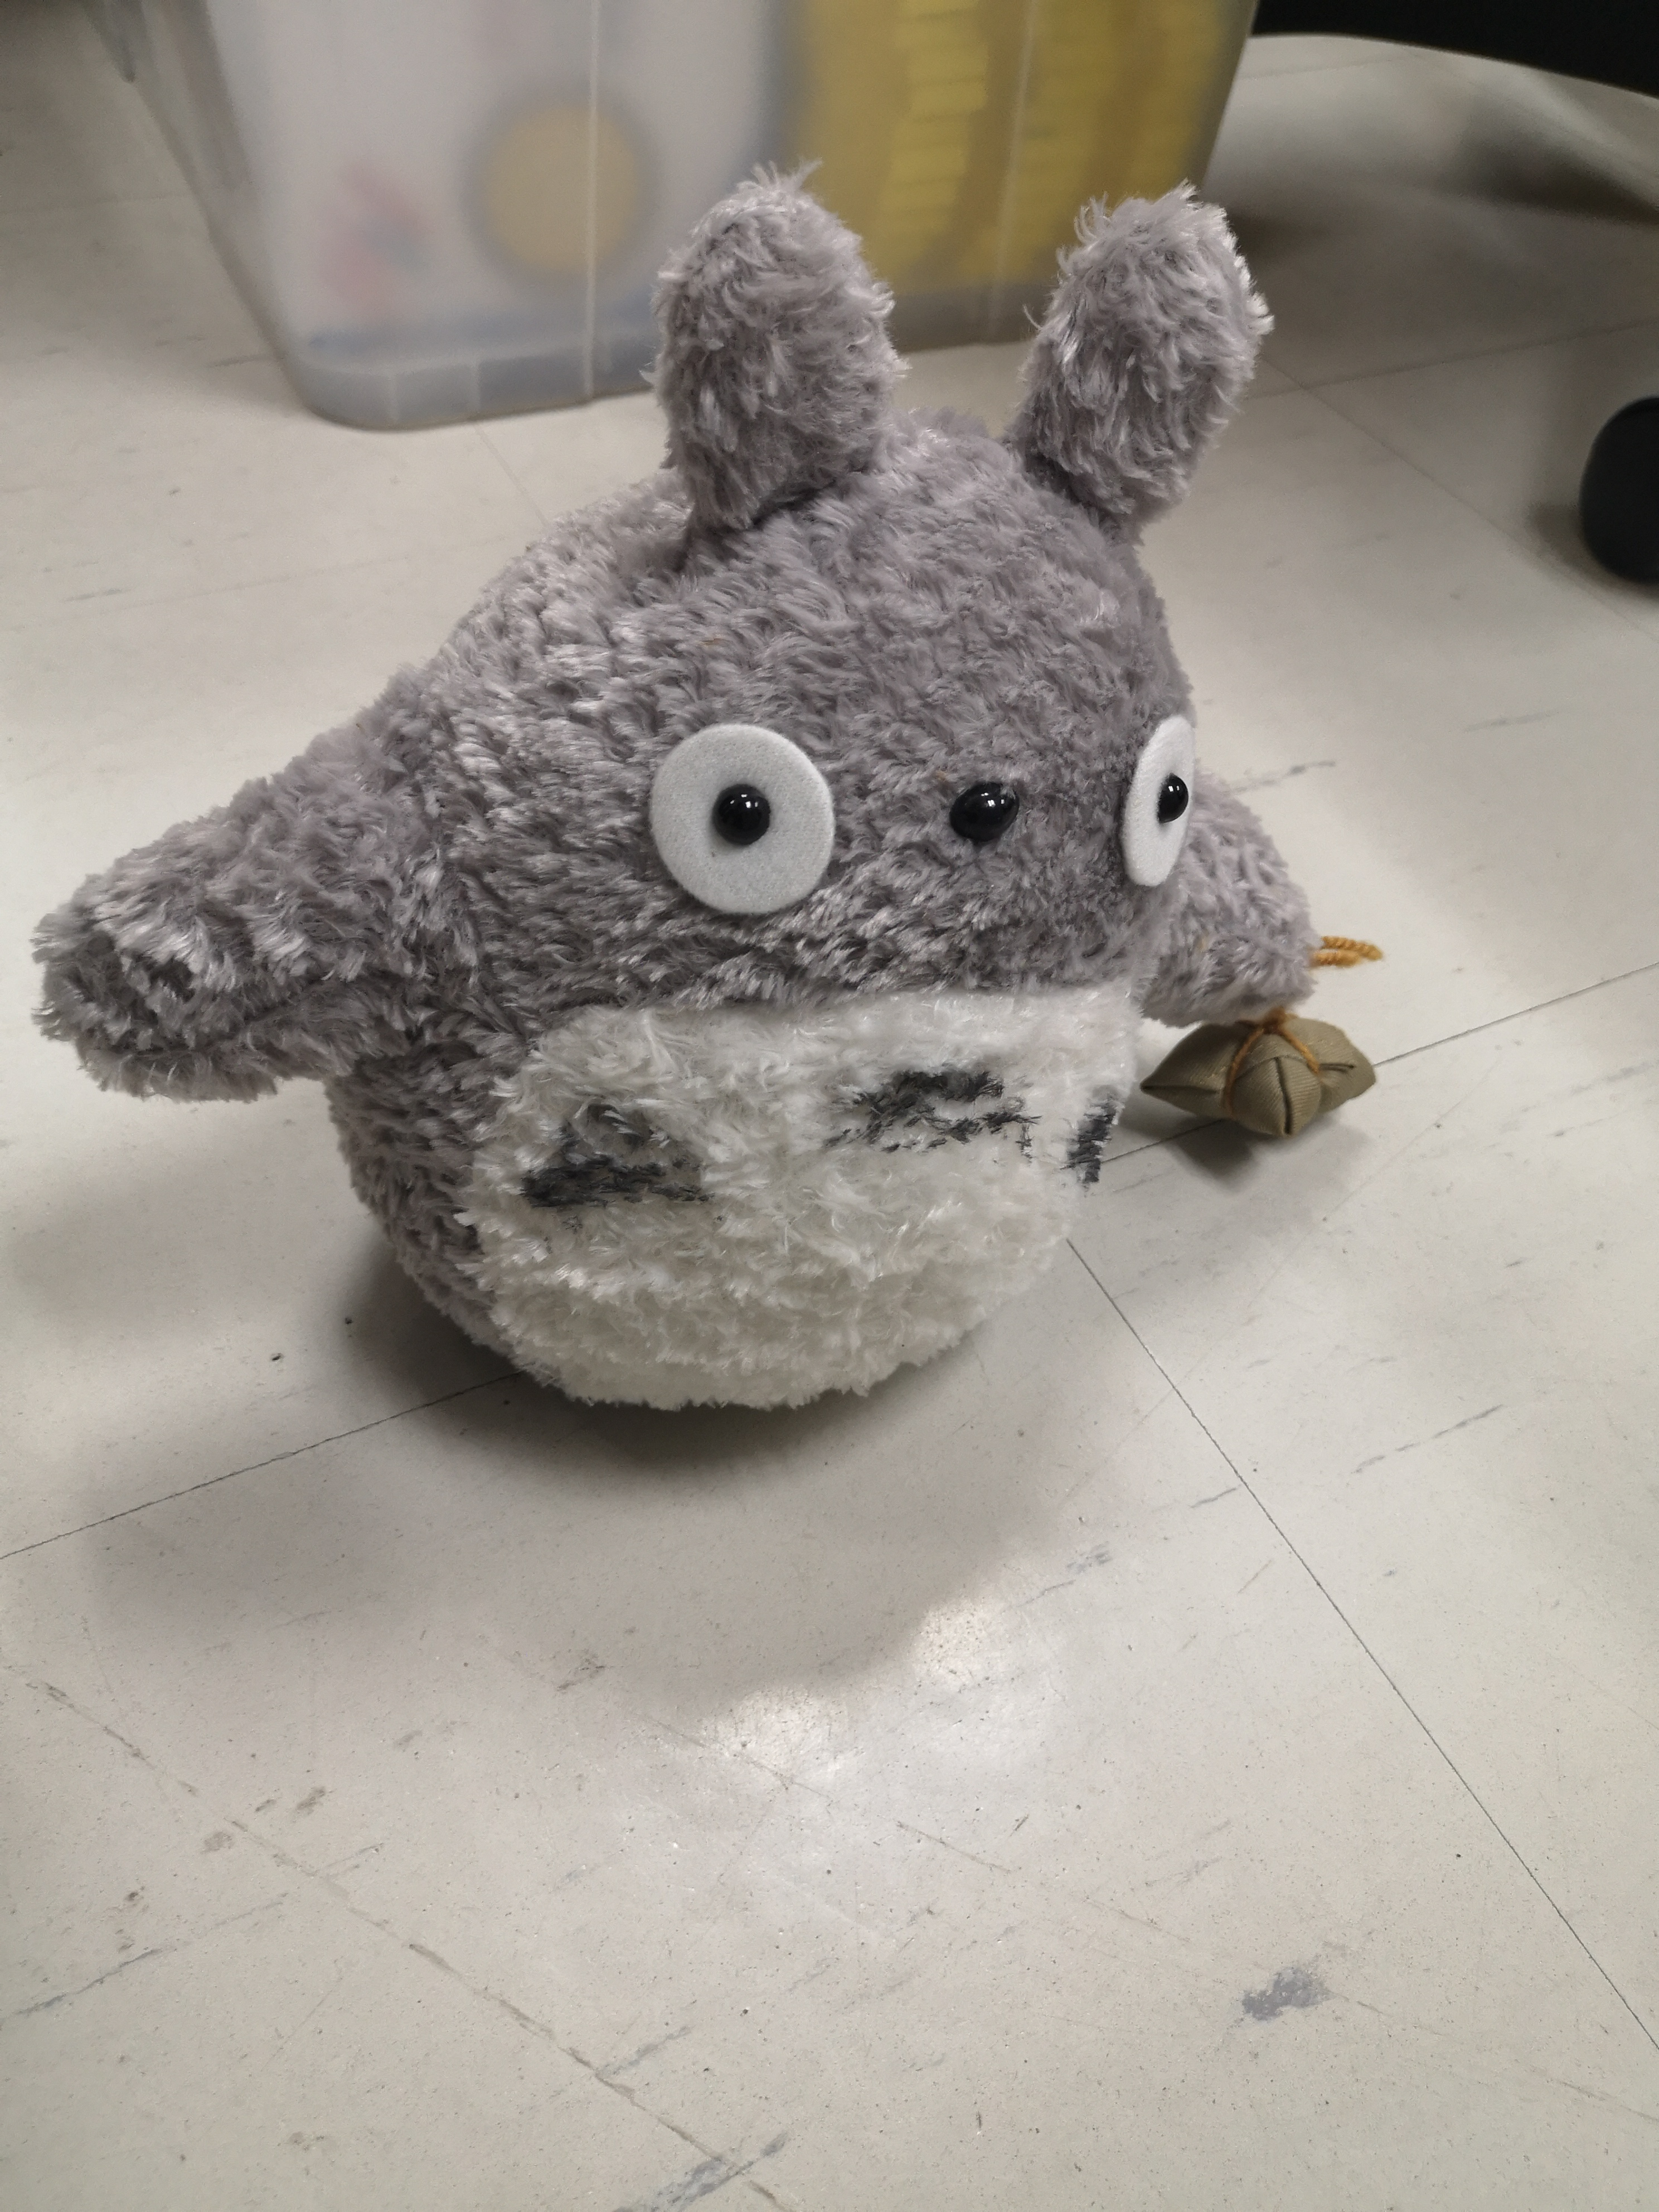totoro: (30, 160, 1410, 1433)
